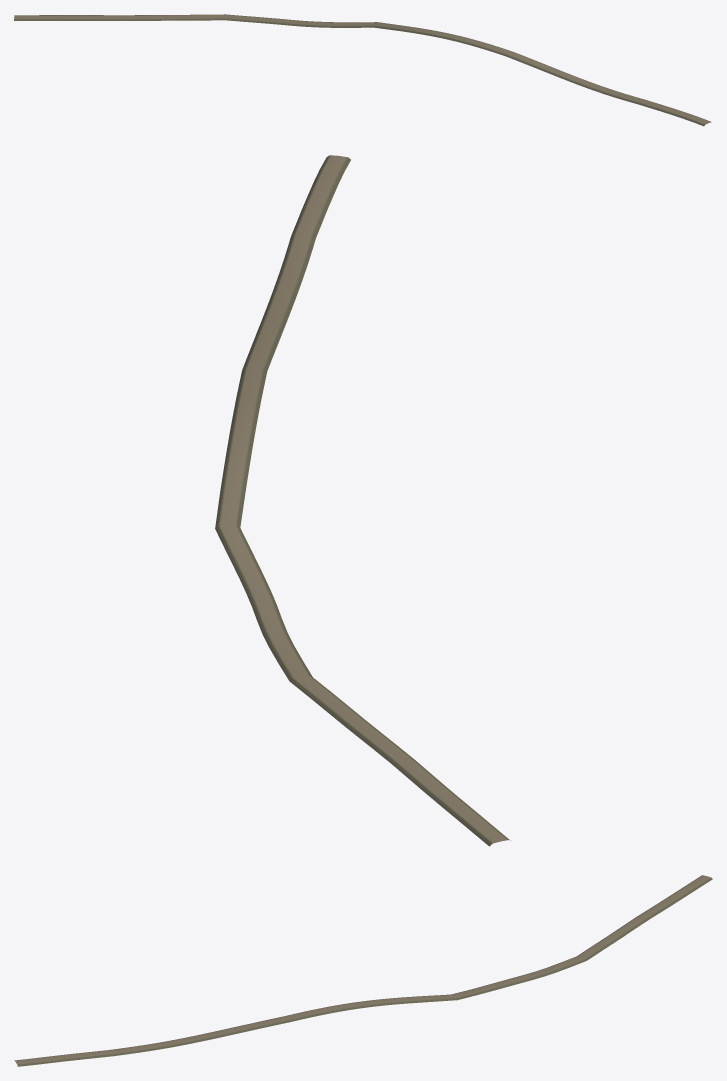
3 renders of one model, top to bottom at view 1: azimuth 30°, elevation 25°; view 2: azimuth 150°, elevation 25°; view 3: azimuth 270°, elevation 25°, orthographic. The views are drawn at different scales.
Parts seen in each view (by area): view 1: roads; view 2: roads; view 3: roads.
Boxes of the visible parts, box(x1,y1,x2,y2) form: roads: box(14, 14, 711, 126); roads: box(215, 155, 510, 846); roads: box(14, 875, 712, 1066).
Bounding box in the file's own units: 187 × 12.19 × 254.
